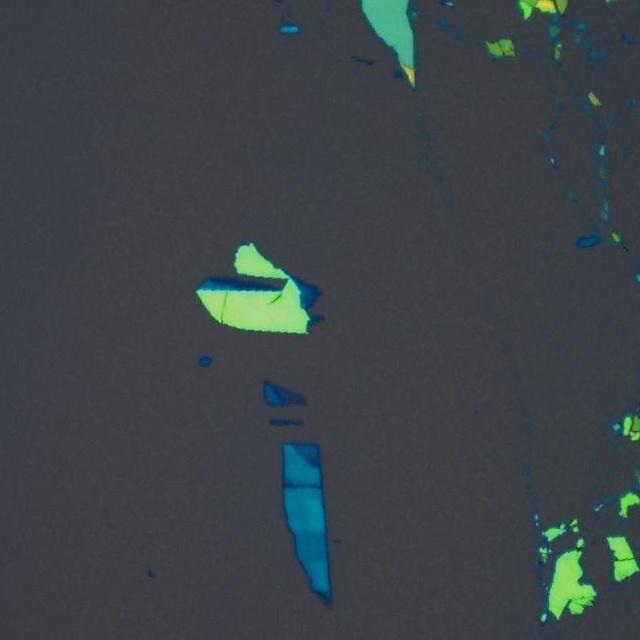monolayer-eWW4: (273, 382, 305, 407)
